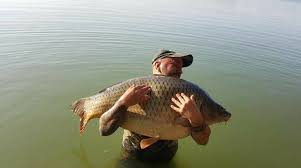carp: (70, 73, 233, 150)
